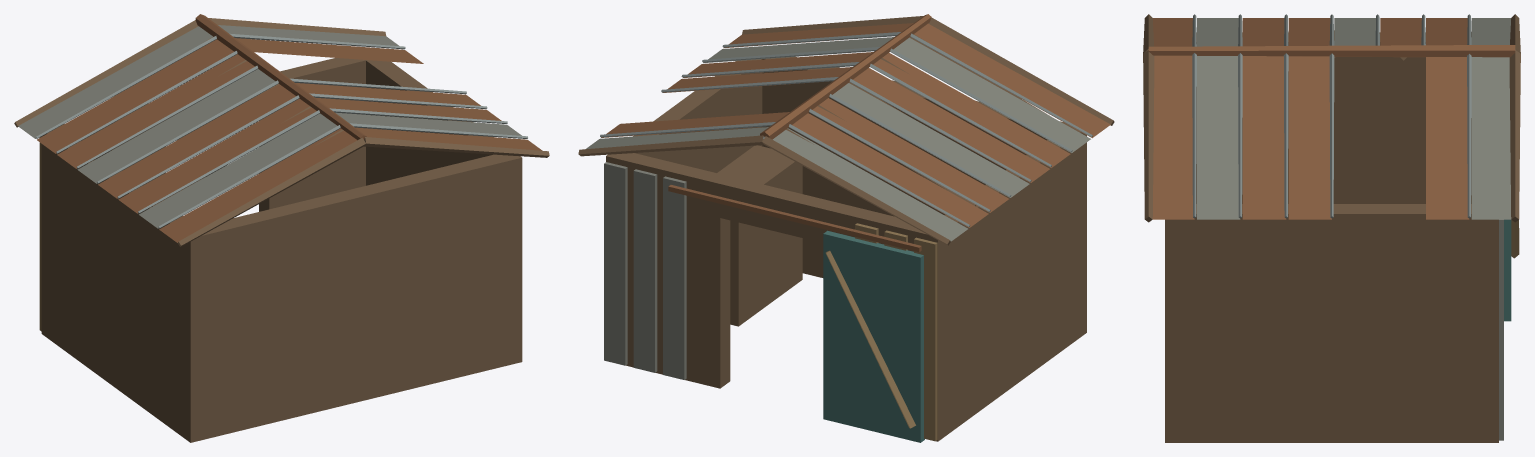
File: shed.glb
The picture shows the model from 3 angles, left to right: view 1: azimuth 30°, elevation 25°; view 2: azimuth 150°, elevation 25°; view 3: azimuth 270°, elevation 25°; orthographic projection. The views are drawn at different scales.
Visible parts, largest first — view 1: shed_visual; view 2: shed_visual; view 3: shed_visual.
Boxes of the visible parts, left/top/right/bottom form: shed_visual: left=14, top=14, right=549, bottom=442; shed_visual: left=578, top=14, right=1114, bottom=442; shed_visual: left=1143, top=14, right=1520, bottom=442.
Size of what is drawn, in the model's own units: 5.02 by 3.56 by 3.96.
